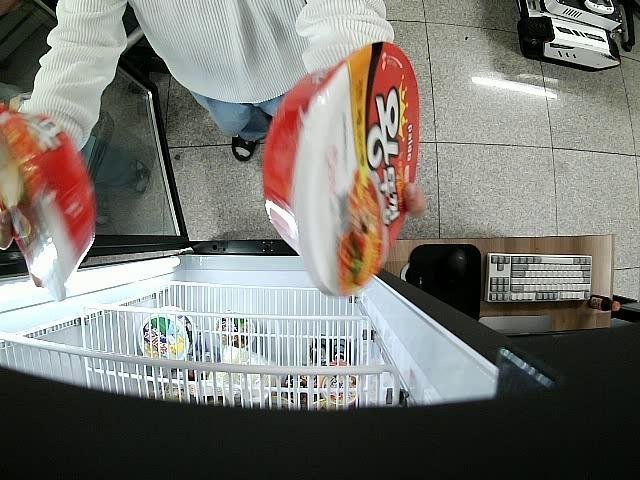10_wangTtukkeong: (261, 42, 417, 298), (0, 102, 102, 304)
